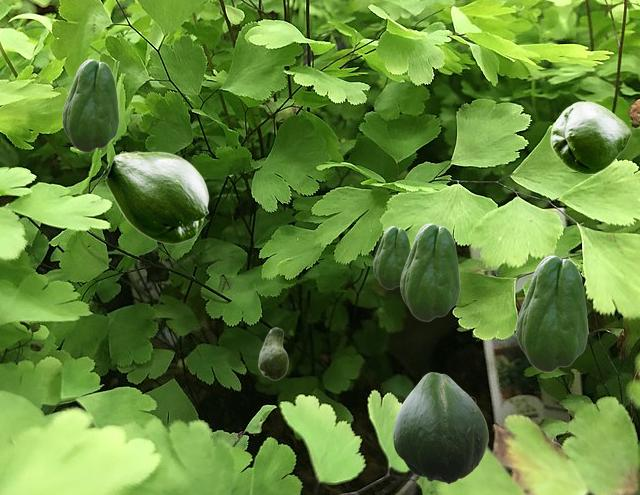sayote: (393, 372, 487, 483), (105, 151, 208, 243), (516, 255, 587, 371), (550, 101, 630, 173), (400, 223, 459, 320), (62, 59, 118, 151), (373, 226, 410, 288), (258, 327, 287, 379)
